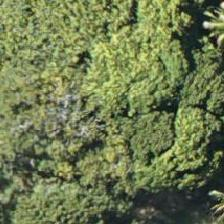coconut_tree: (173, 143, 223, 223)
